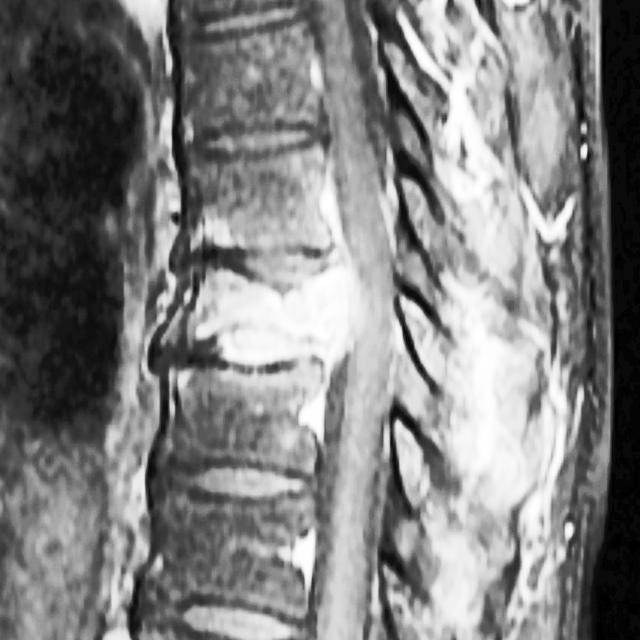Compression-Crush Fracutre: (165, 262, 359, 369)
